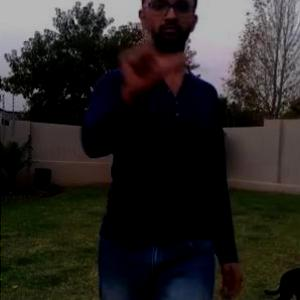land_hand: (114, 12, 183, 89)
